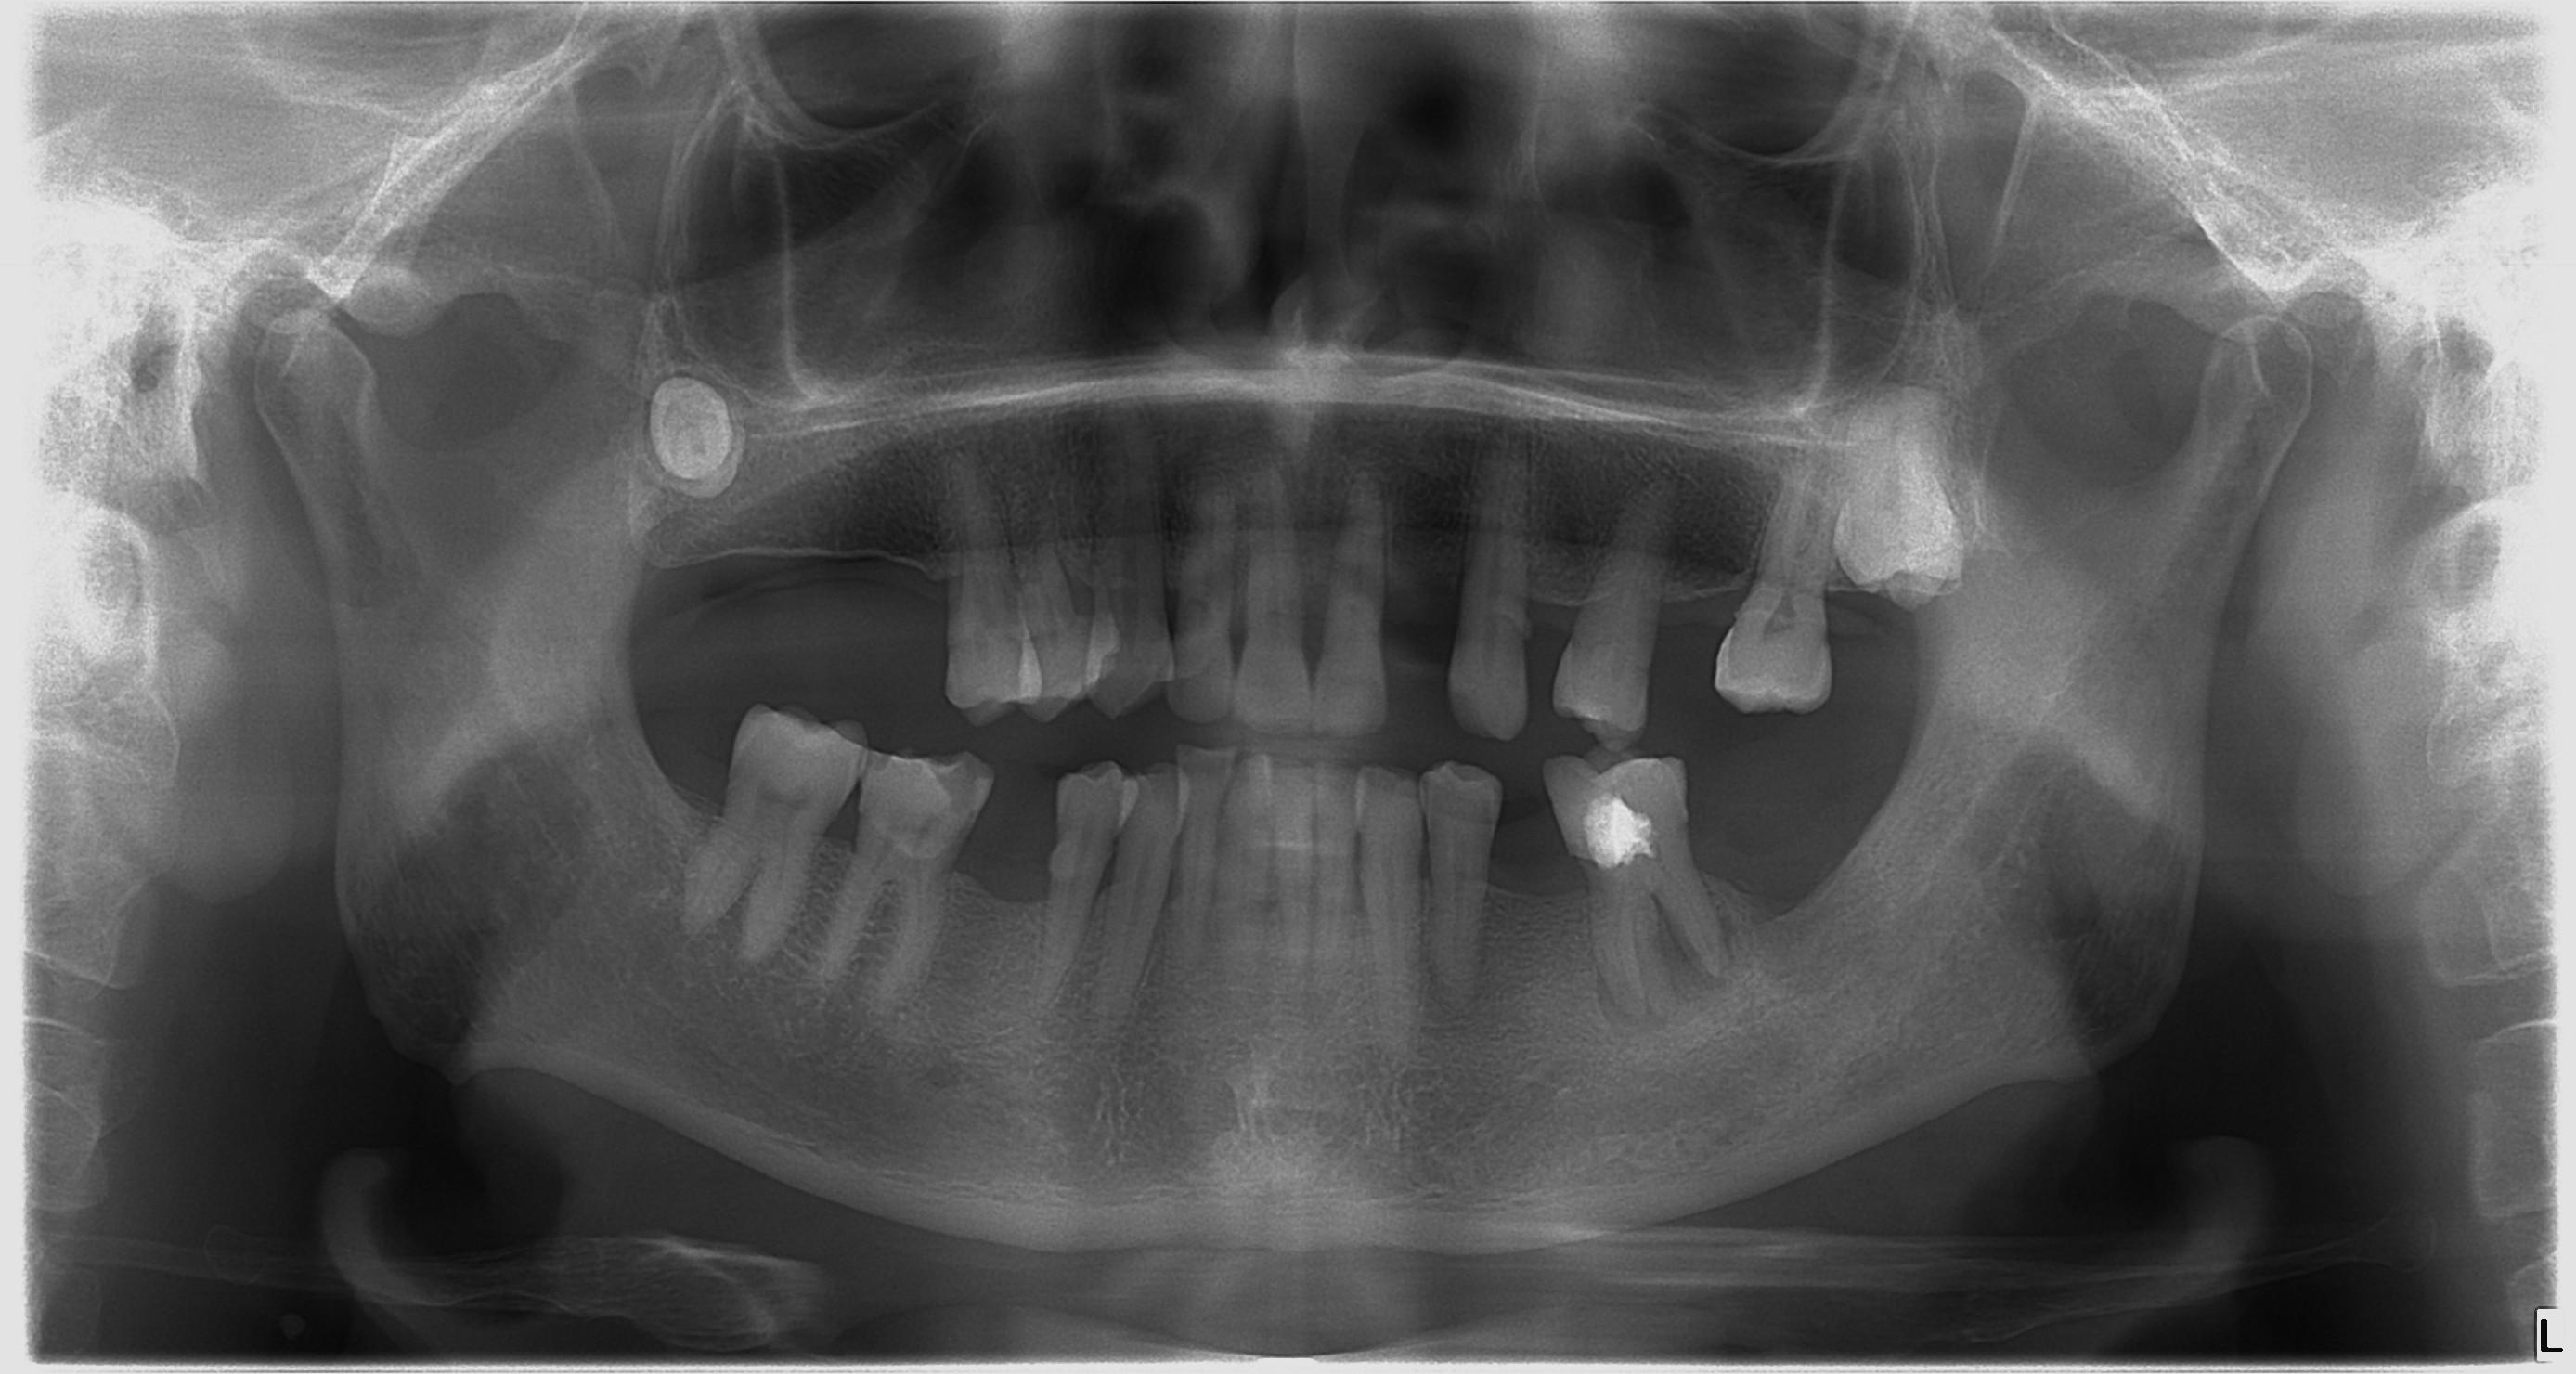Individual Tooth: (1546, 741, 1736, 1018), (808, 748, 996, 1017), (675, 706, 868, 961), (1553, 480, 1670, 748), (1832, 389, 1965, 608), (1715, 479, 1836, 713), (945, 454, 1041, 723), (1083, 432, 1173, 717), (1093, 764, 1183, 1030), (1450, 437, 1528, 740), (1003, 500, 1100, 720), (1045, 764, 1139, 987), (1233, 460, 1310, 732), (1306, 484, 1388, 736), (1354, 767, 1423, 1062), (1168, 468, 1242, 724), (1421, 763, 1500, 1003), (1217, 754, 1274, 980), (1178, 746, 1235, 967), (1309, 765, 1359, 1003), (1273, 766, 1314, 993)
